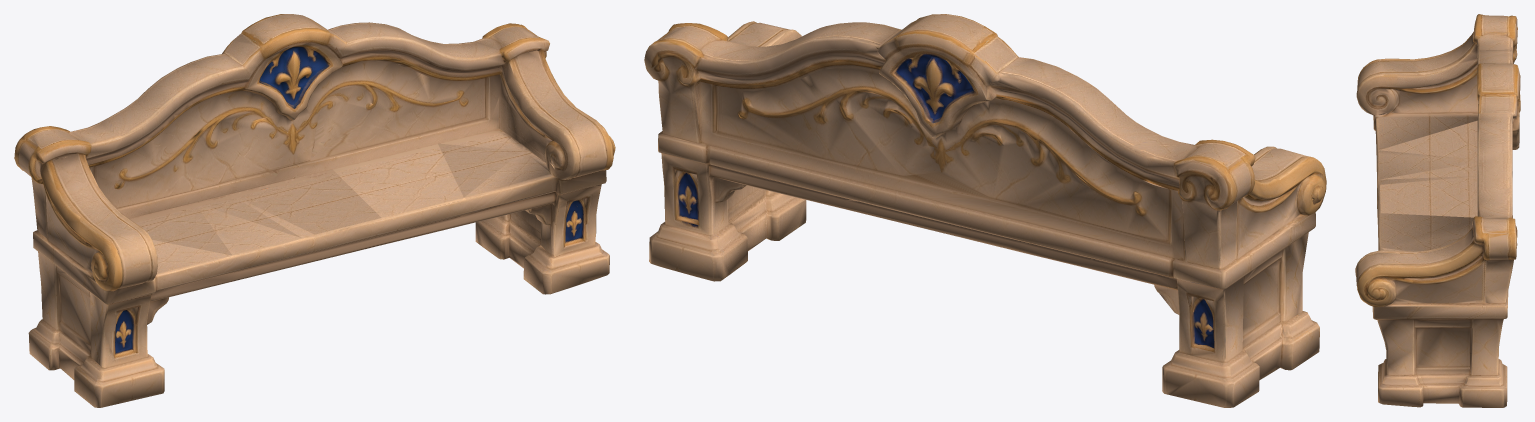
Rendered from bench.glb.
3 views of the same model, side by side, from view 1: azimuth 30°, elevation 25°; view 2: azimuth 150°, elevation 25°; view 3: azimuth 270°, elevation 25° (orthographic). The views are drawn at different scales.
Parts seen in each view (by area): view 1: bench; view 2: bench; view 3: bench.
Part boxes in pixels (left/top/right/bottom): bench: left=14, top=14, right=615, bottom=407; bench: left=644, top=14, right=1326, bottom=407; bench: left=1355, top=14, right=1520, bottom=407.
Size of the model in its own units: 3 by 1.51 by 0.9611.
Materials: 1 (1 with a texture image).
